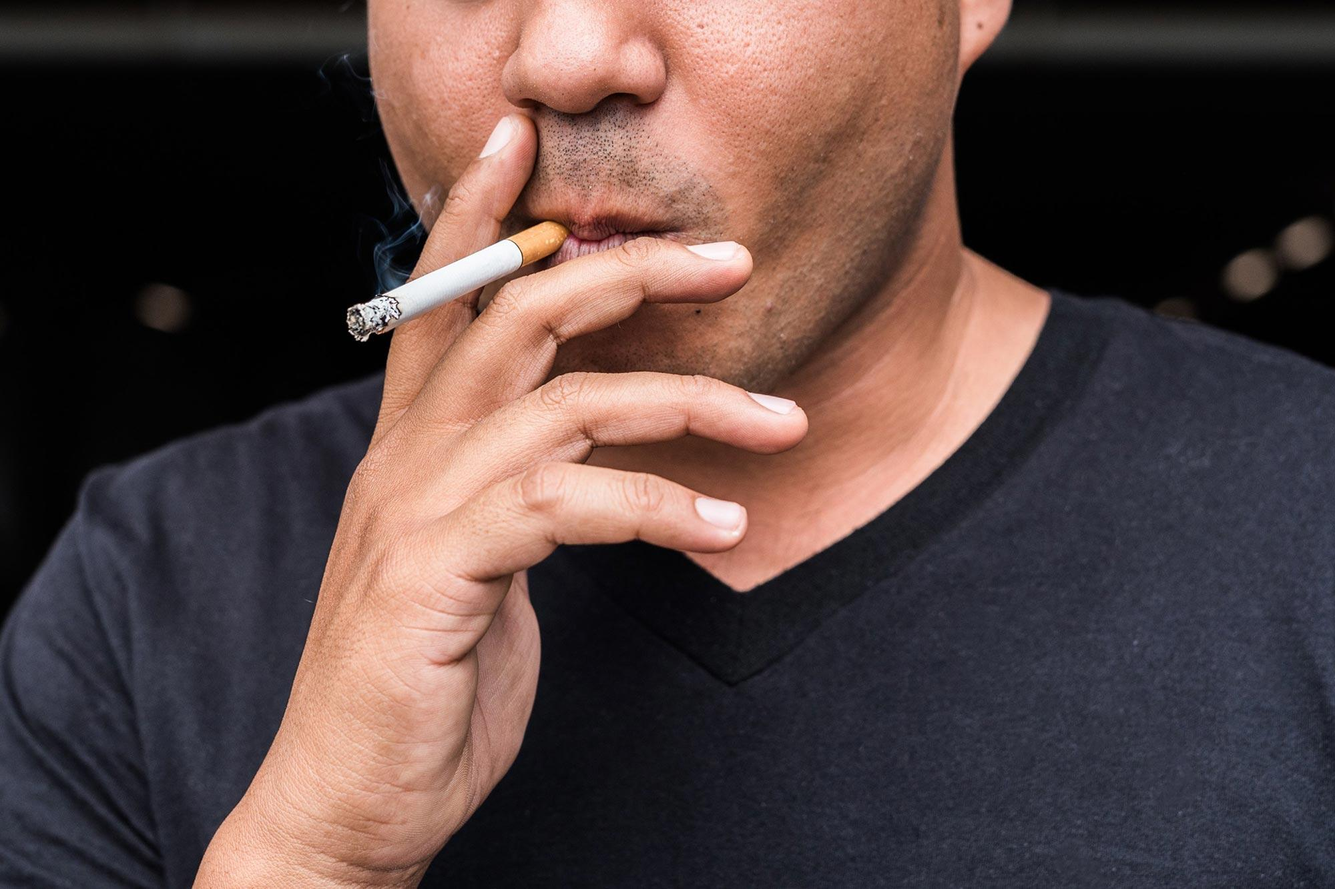cigarette: (346, 221, 568, 341)
